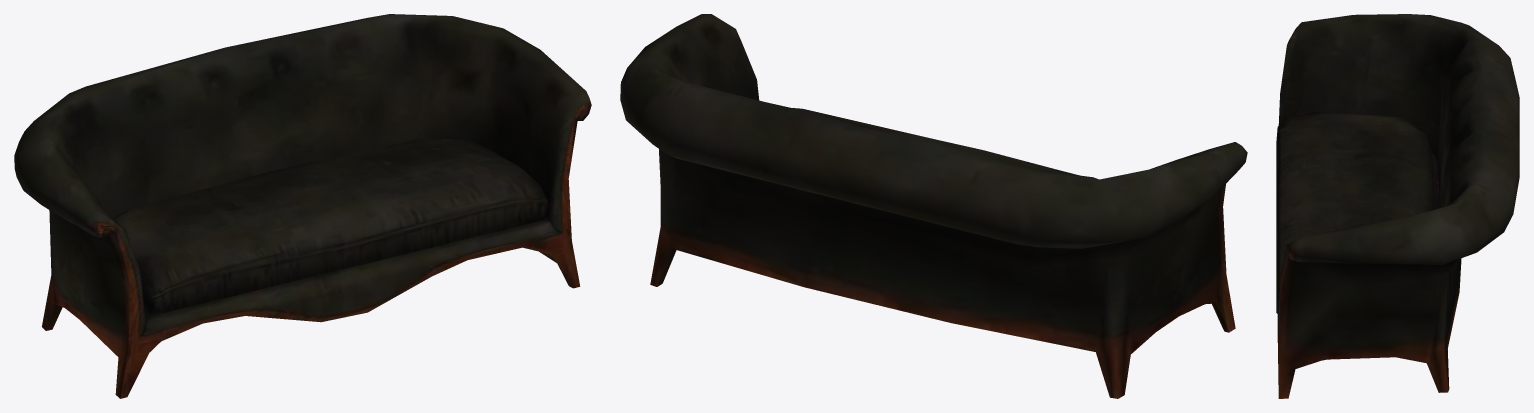
The model's file is hp_room_cc0_sofa2.glb.
3 views of the same model, side by side, from view 1: azimuth 30°, elevation 25°; view 2: azimuth 150°, elevation 25°; view 3: azimuth 270°, elevation 25° (orthographic). The views are drawn at different scales.
Parts seen in each view (by area): view 1: sofa_02_Base, sofa_02_Seat; view 2: sofa_02_Base, sofa_02_Seat; view 3: sofa_02_Base, sofa_02_Seat.
Part boxes in pixels (x1,y1,x2,y2): sofa_02_Base: (14,14,591,398); sofa_02_Seat: (114,139,549,314); sofa_02_Base: (620,14,1247,398); sofa_02_Seat: (792,108,1078,175); sofa_02_Base: (1277,14,1519,398); sofa_02_Seat: (1276,112,1432,313).
Bounding box in the file's own units: 1.81 × 0.7095 × 0.8121.
Materials: 1 (1 with a texture image).
